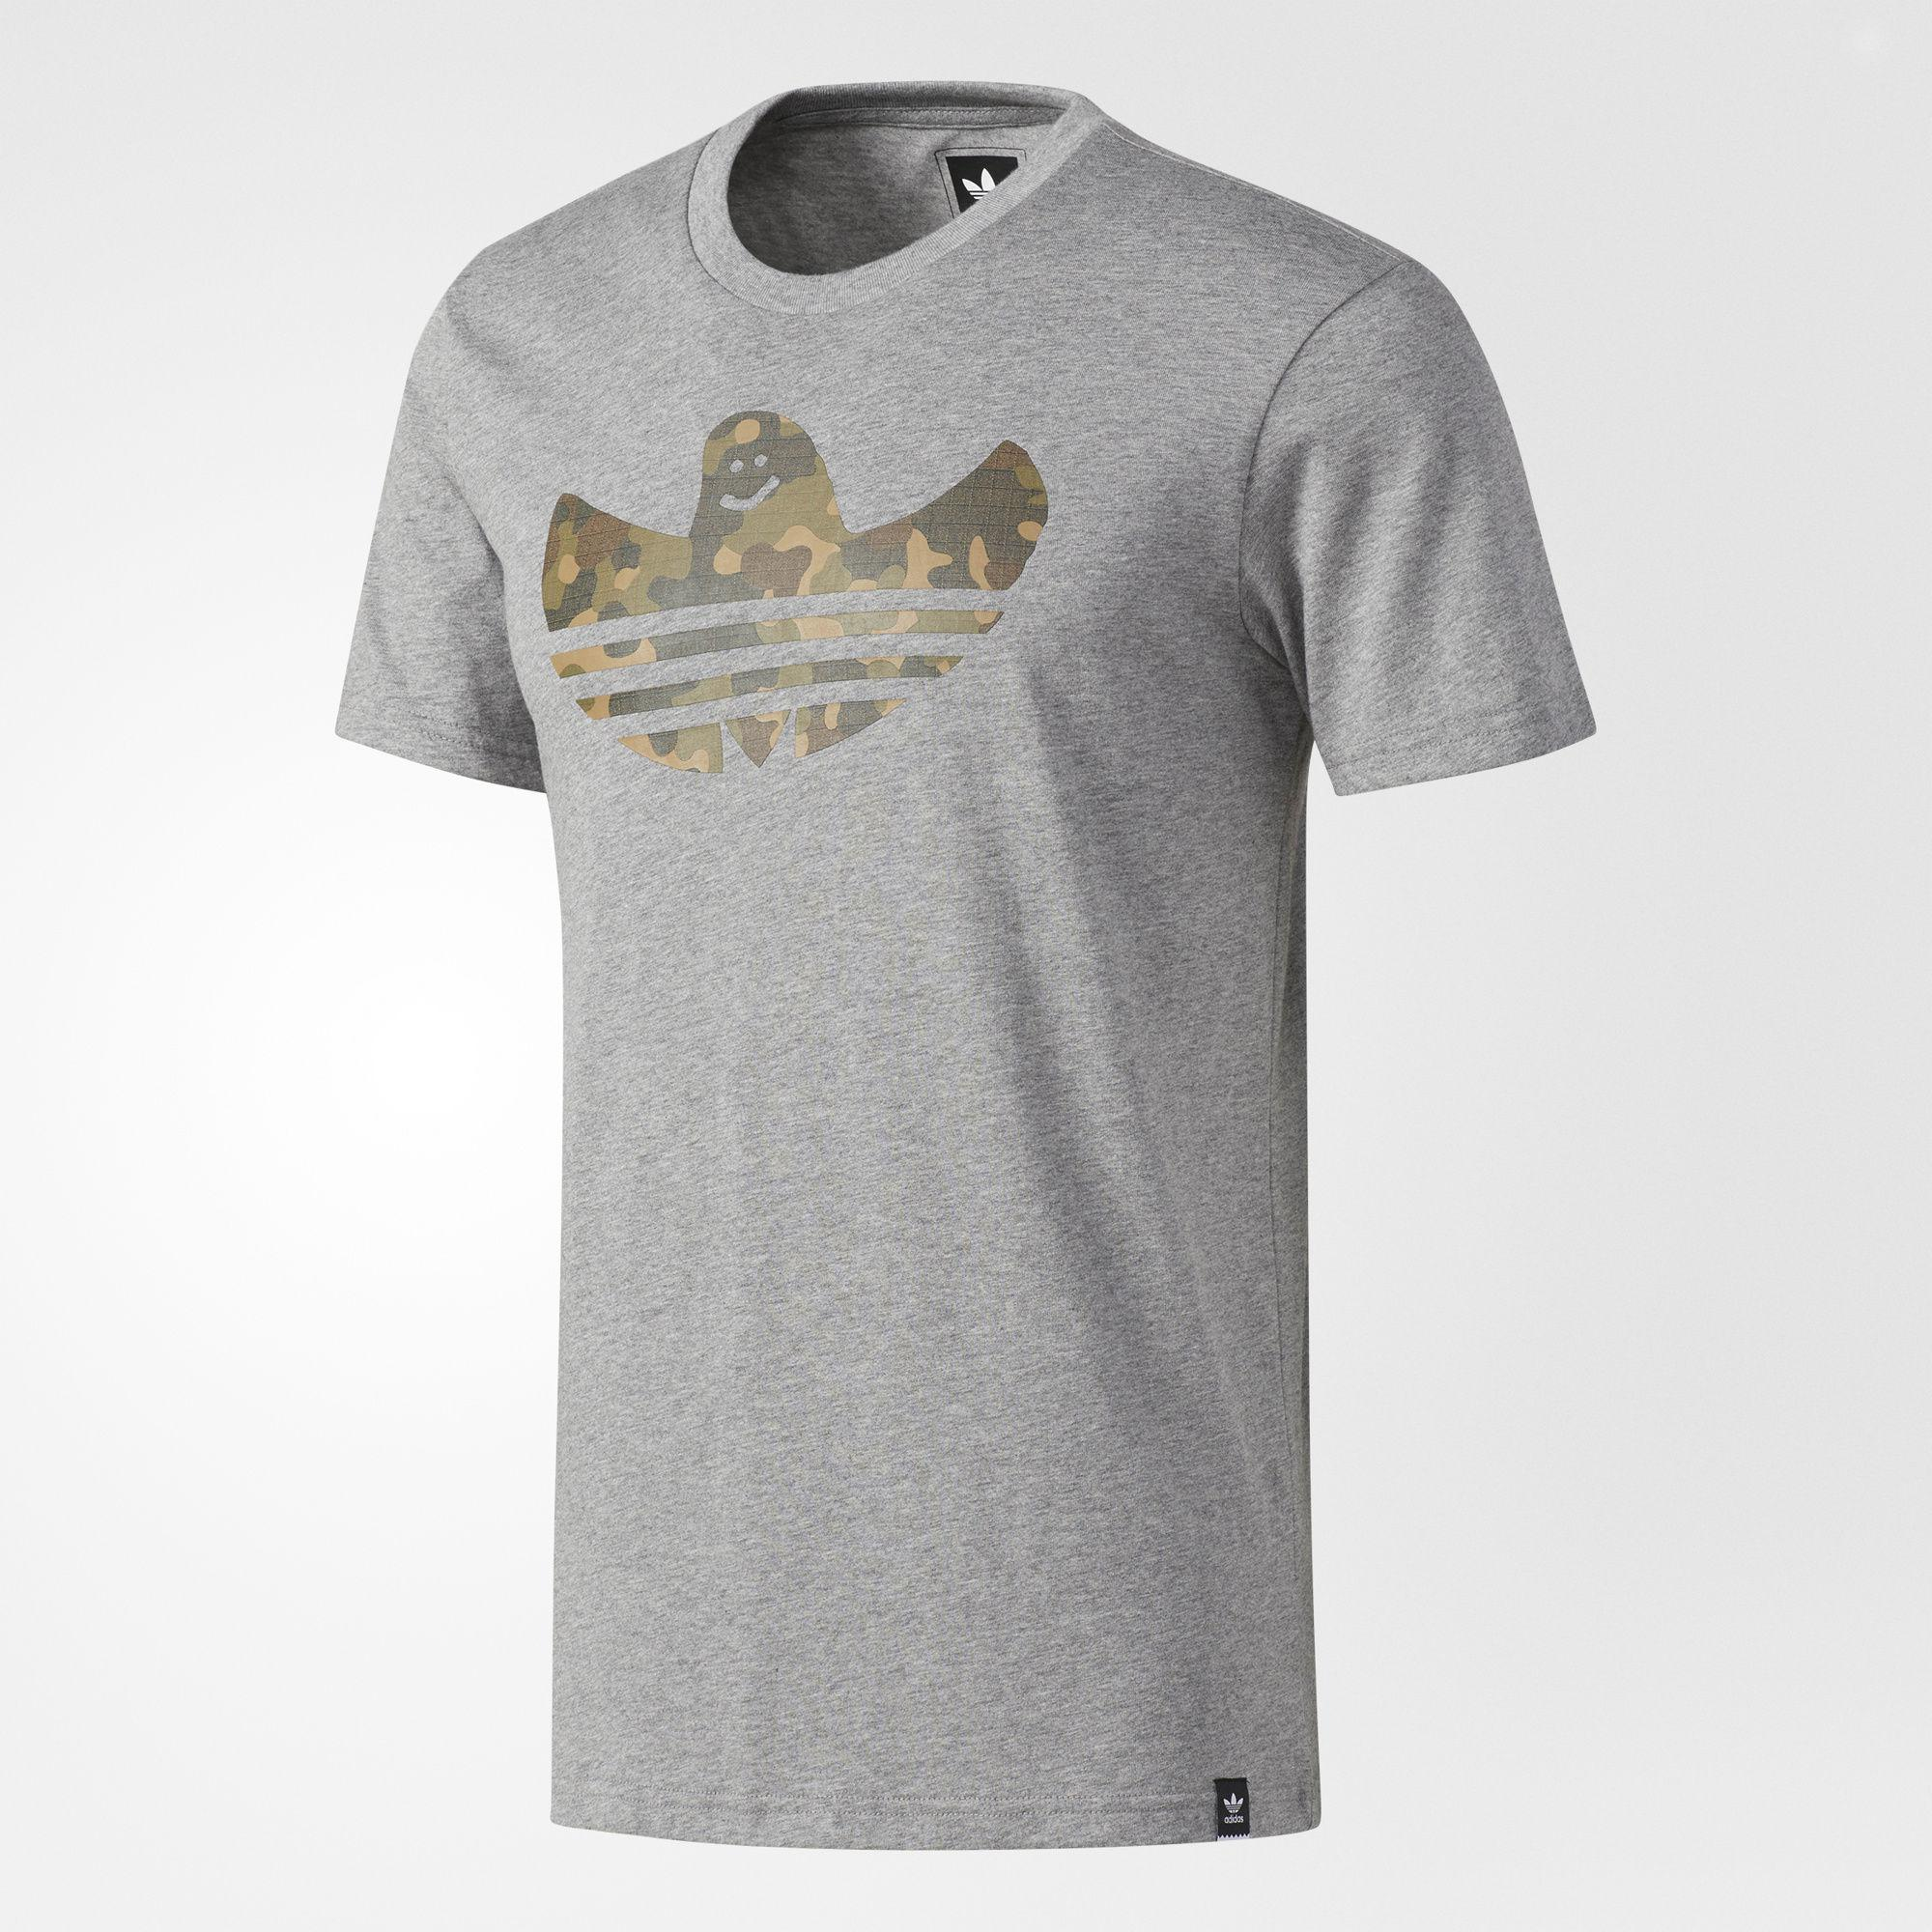teeshirt: (212, 34, 1629, 1875)
